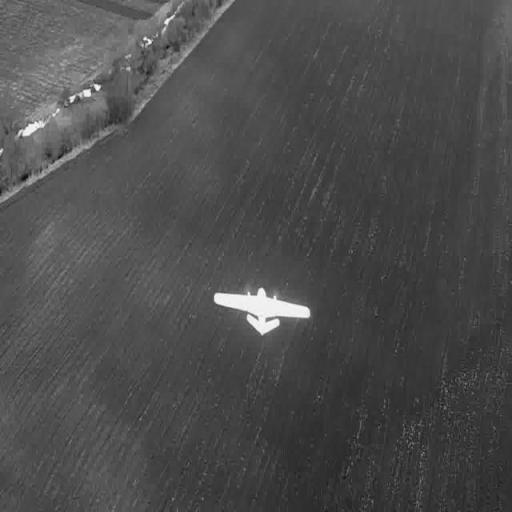uav: (210, 279, 330, 337)
